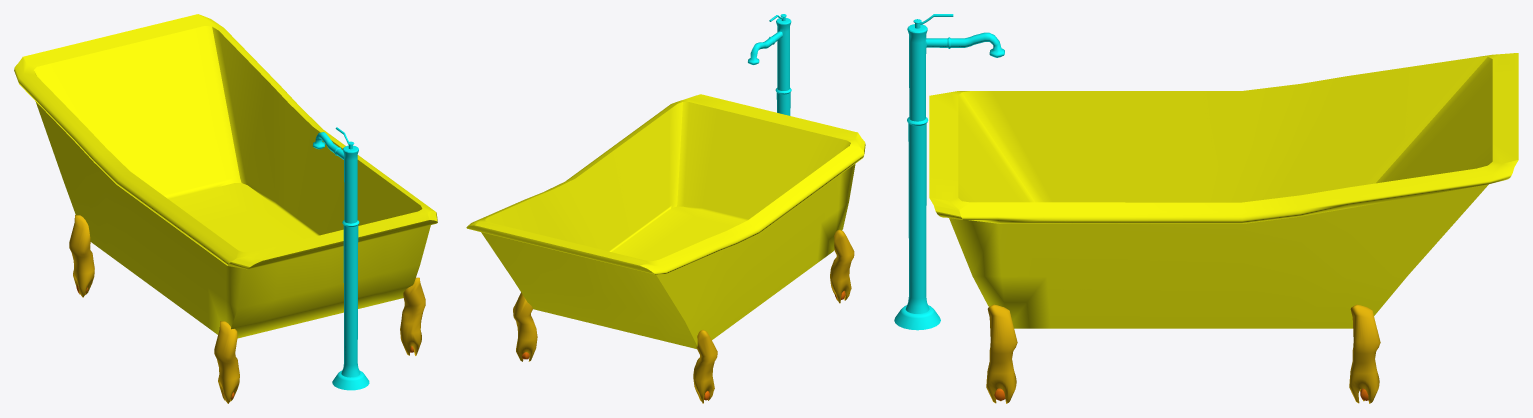
The model's file is King_Tub.fbx.
3 views of the same model, side by side, from view 1: azimuth 30°, elevation 25°; view 2: azimuth 150°, elevation 25°; view 3: azimuth 270°, elevation 25° (orthographic). The views are drawn at different scales.
Visible parts, largest first — view 1: polySurface1, polySurface4, polySurface2, polySurface6, polySurface3, polySurface5; view 2: polySurface1, polySurface4, polySurface2, polySurface6, polySurface9, polySurface5; view 3: polySurface1, polySurface4, polySurface9, polySurface3, polySurface5.
Part boxes in pixels (box(x1,y1,x2,y2)): polySurface1: box(14, 14, 437, 338); polySurface4: box(313, 127, 369, 390); polySurface2: box(214, 321, 239, 403); polySurface6: box(69, 215, 94, 297); polySurface3: box(400, 277, 425, 355); polySurface5: box(314, 129, 368, 390); polySurface1: box(466, 94, 865, 348); polySurface4: box(748, 14, 791, 115); polySurface2: box(830, 229, 854, 303); polySurface6: box(693, 330, 717, 403); polySurface9: box(513, 292, 537, 361); polySurface5: box(749, 14, 790, 115); polySurface1: box(929, 53, 1518, 328); polySurface4: box(894, 14, 1004, 330); polySurface9: box(1349, 304, 1380, 403); polySurface3: box(986, 304, 1017, 403); polySurface5: box(895, 14, 1004, 330).
Bounding box in the file's own units: 3.04 × 3.64 × 6.22.
